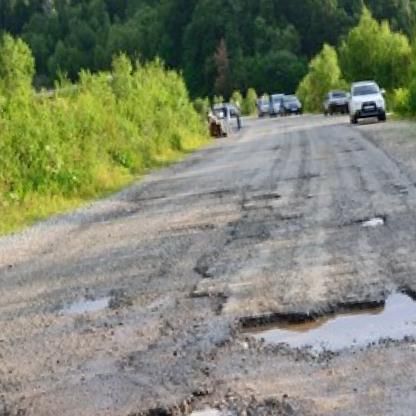pothole: (234, 279, 416, 368), (86, 378, 278, 416), (358, 212, 388, 231)
